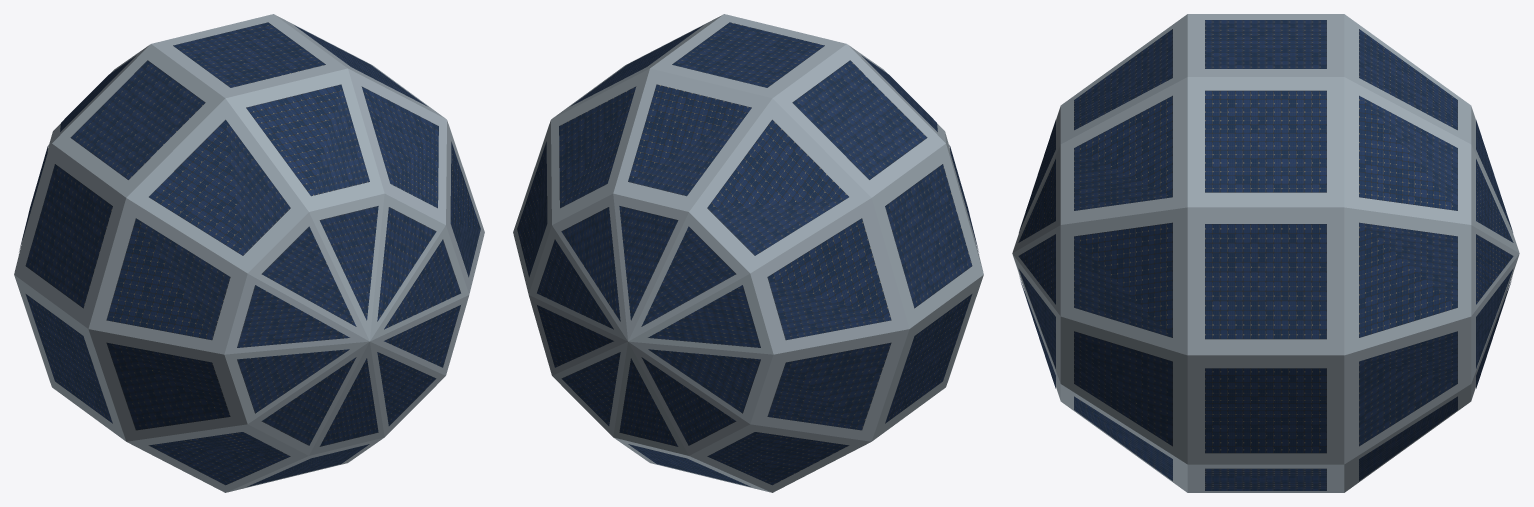
Rendered from ref-idcsp-2221.glb.
3 renders of one model, left to right at view 1: azimuth 30°, elevation 25°; view 2: azimuth 150°, elevation 25°; view 3: azimuth 270°, elevation 25°, orthographic. The views are drawn at different scales.
Visible parts, largest first — view 1: Body solar facets, Faceted solar shell; view 2: Body solar facets, Faceted solar shell; view 3: Body solar facets, Faceted solar shell.
Boxes of the visible parts, <box> form: Body solar facets: <box>19,22,480,486</box>; Faceted solar shell: <box>14,14,484,492</box>; Body solar facets: <box>517,22,978,486</box>; Faceted solar shell: <box>513,14,983,492</box>; Body solar facets: <box>1018,20,1513,490</box>; Faceted solar shell: <box>1012,14,1519,492</box>.
Bounding box in the file's own units: 0.856 × 0.8181 × 0.9.
2 materials, 1 textured.
